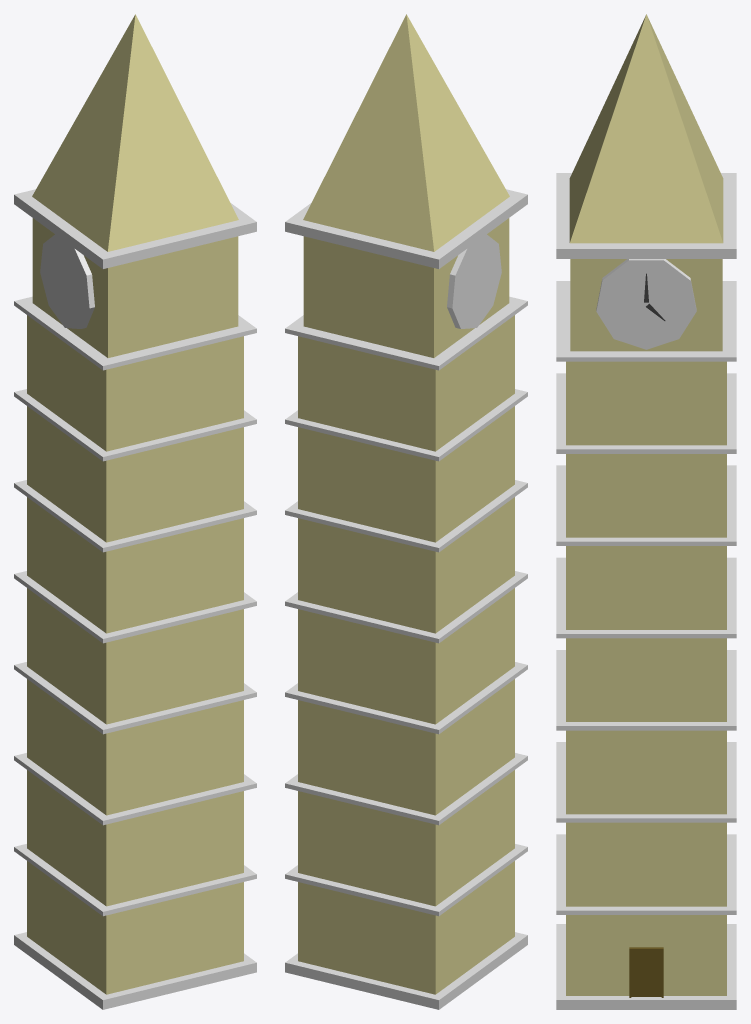
3 renders of one model, left to right at view 1: azimuth 30°, elevation 25°; view 2: azimuth 150°, elevation 25°; view 3: azimuth 270°, elevation 25°, orthographic.
Parts seen in each view (by area): view 1: clock_tower; view 2: clock_tower; view 3: clock_tower.
Boxes of the visible parts, x1,y1,x2,y2 form: clock_tower: [14, 14, 256, 1009]; clock_tower: [285, 14, 527, 1009]; clock_tower: [556, 14, 736, 1009].
Size of the model in its own units: 3.54 by 20.77 by 3.54.
